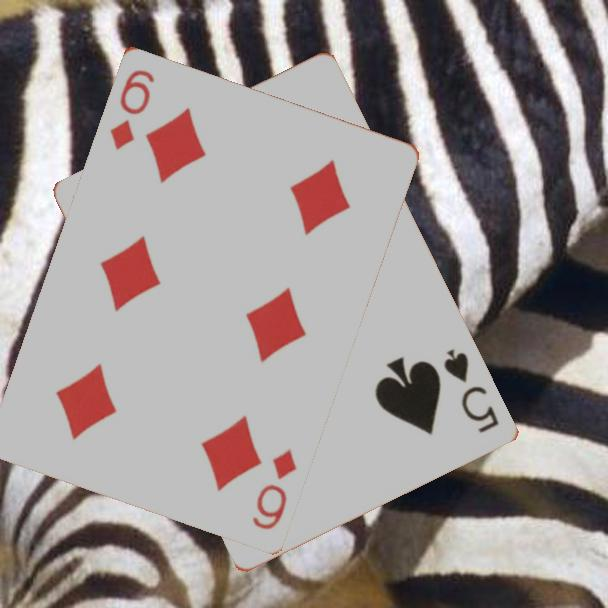d06: (248, 444, 300, 532), (106, 65, 157, 153)
s05: (440, 345, 503, 436)
